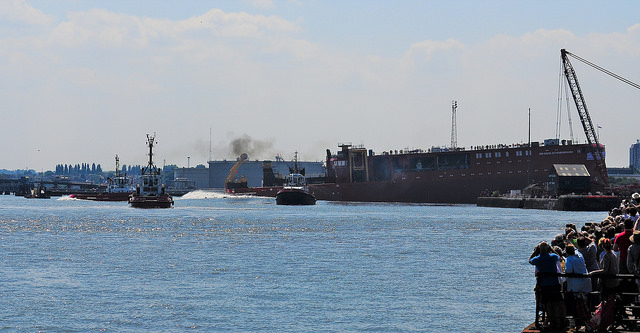PCC: (226, 135, 611, 193)
tug_boat: (132, 134, 176, 209), (277, 155, 316, 203), (80, 164, 132, 199)
